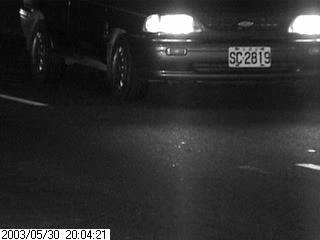plate: (226, 45, 272, 69)
